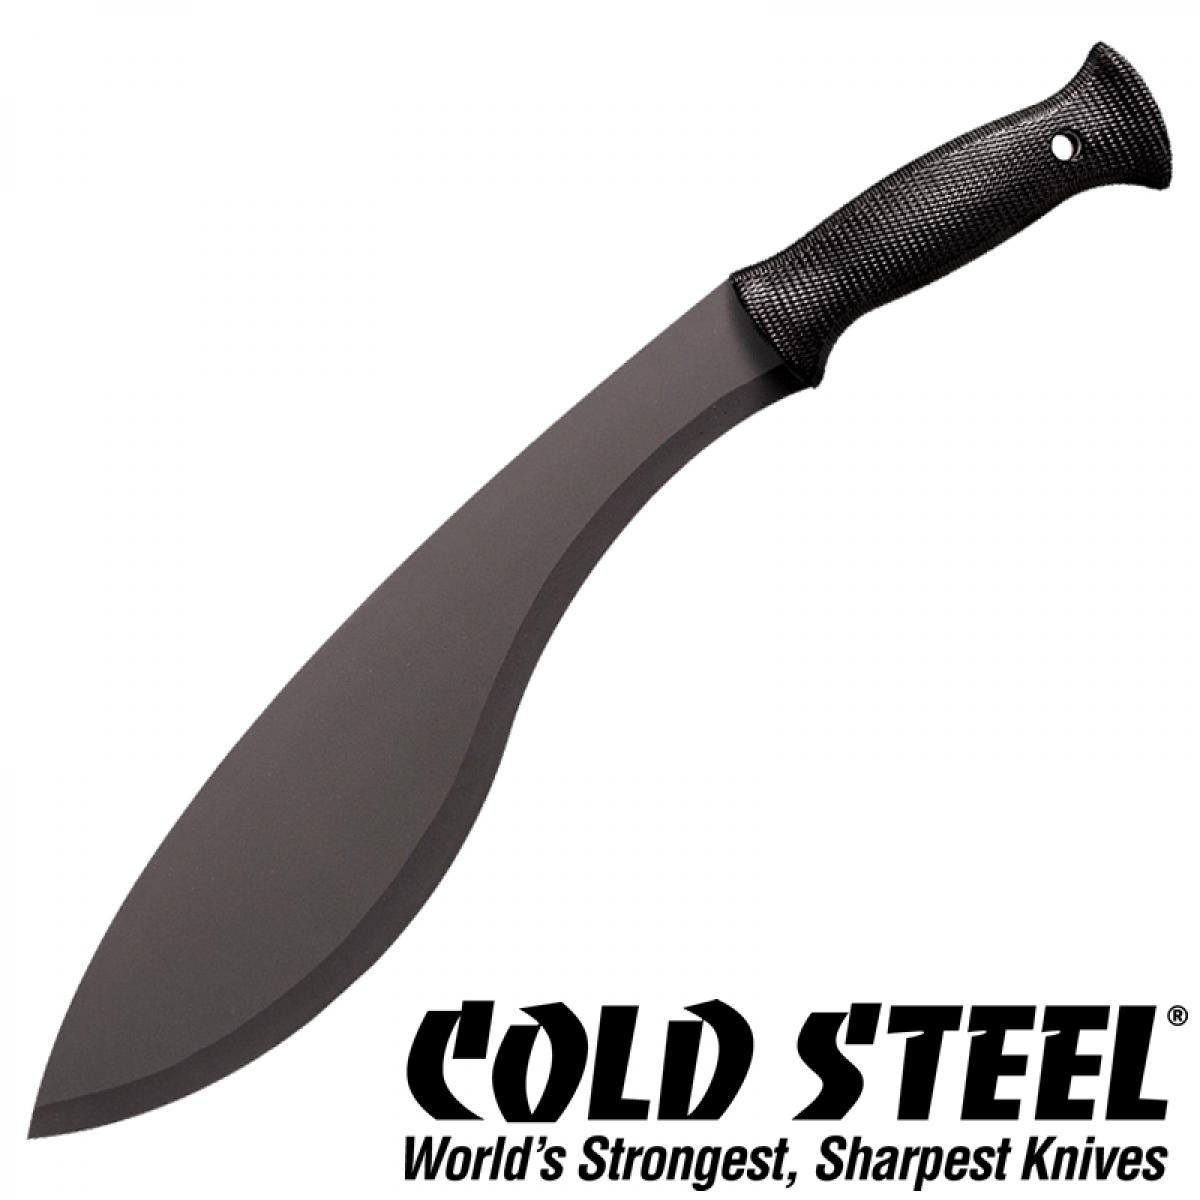facao: (29, 44, 1170, 1137)
